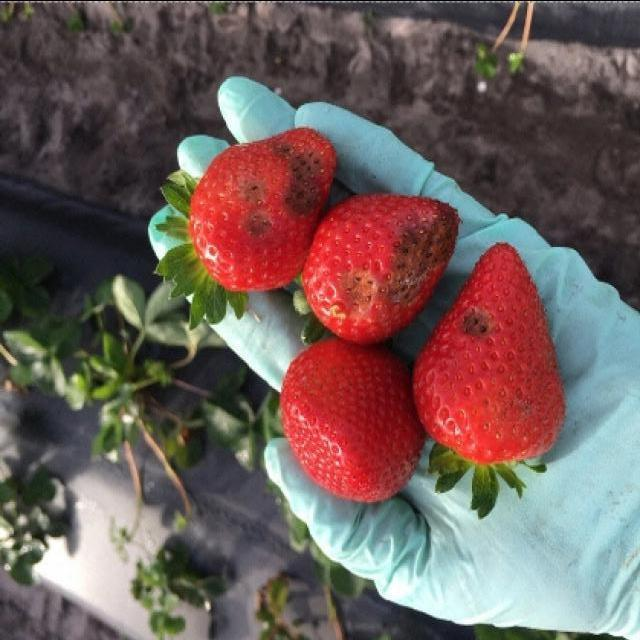Anthracnose Fruit Rot: (327, 196, 460, 324), (234, 133, 329, 245), (452, 300, 499, 347)
